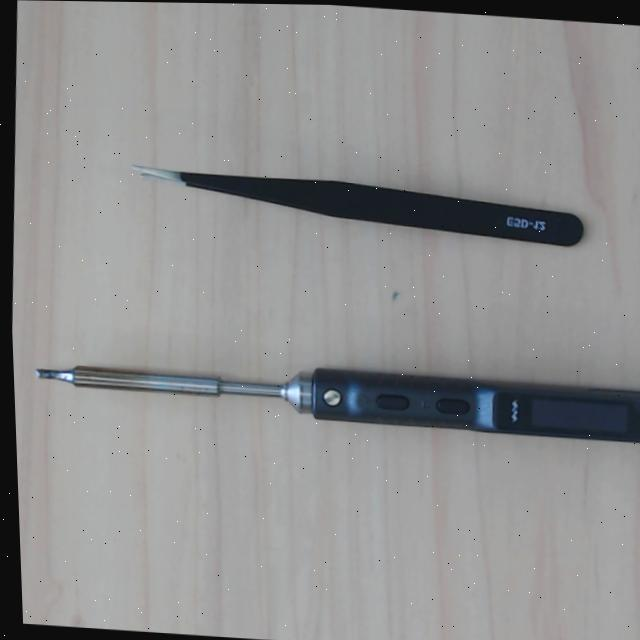Tweezers: (129, 153, 585, 251)
